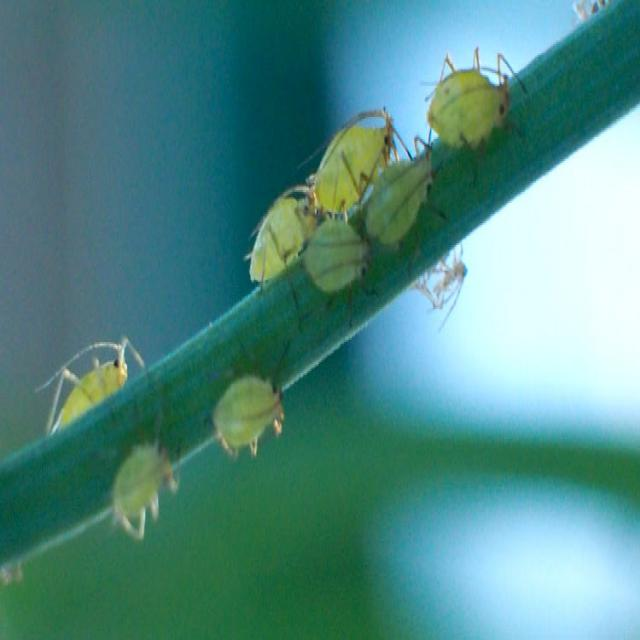Aphid-Grown-: (417, 31, 532, 184), (308, 91, 398, 239), (278, 195, 370, 327), (366, 121, 444, 262), (200, 342, 287, 465), (105, 428, 192, 550), (239, 162, 316, 292), (42, 326, 136, 430)
